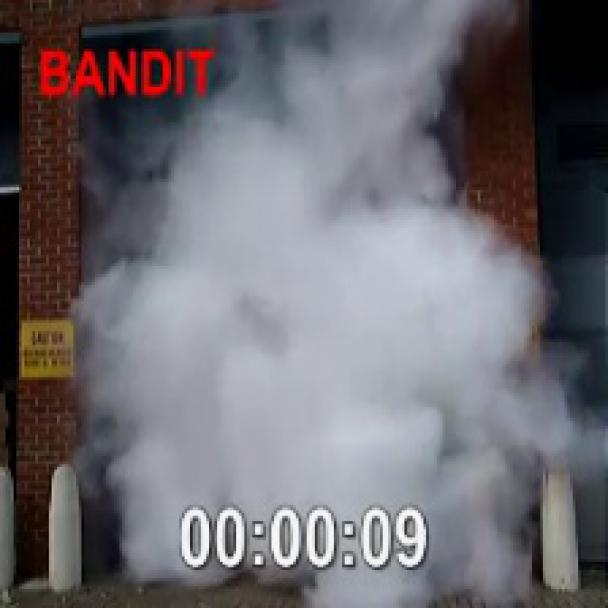smoke: (66, 8, 552, 576)
